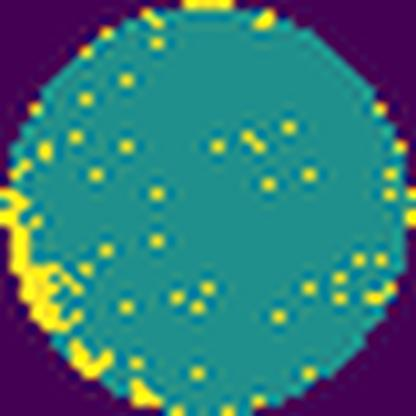Edge-Loc: (0, 183, 72, 331), (66, 338, 112, 379), (128, 378, 165, 409)
